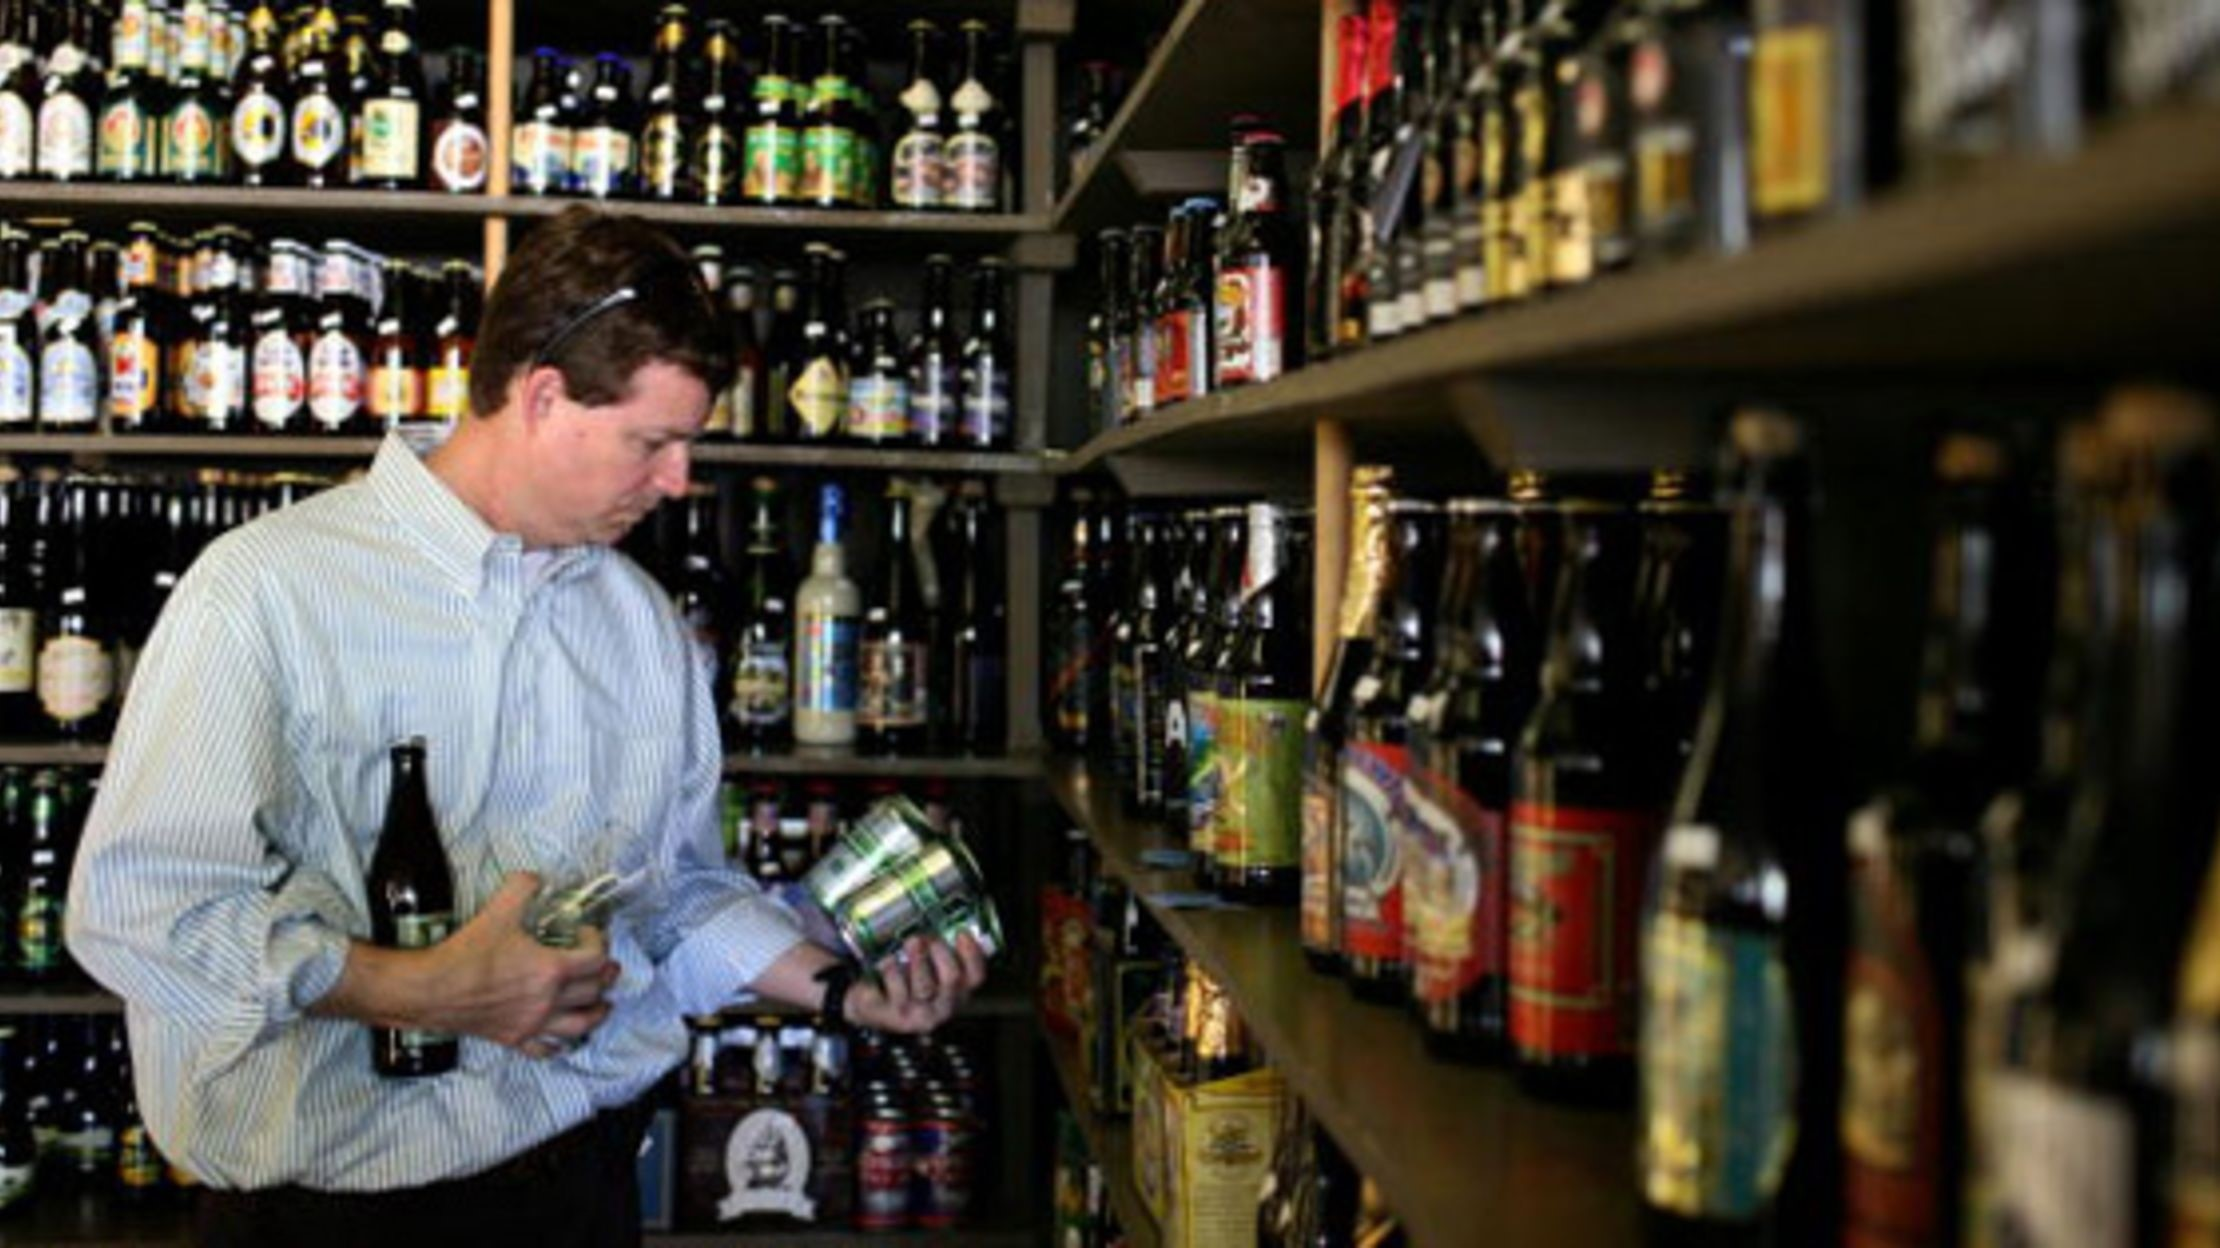face_no_mask: (470, 204, 741, 551)
